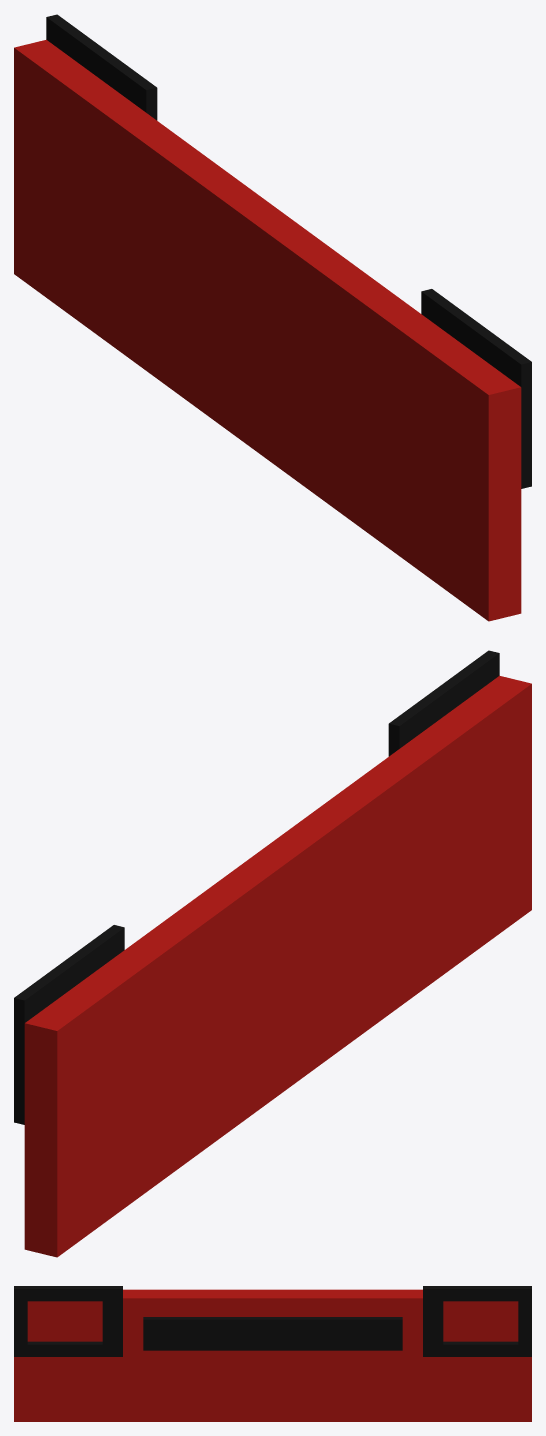
File: double_decker_front_panel.glb
3 views of the same model, one above another, from view 1: azimuth 30°, elevation 25°; view 2: azimuth 150°, elevation 25°; view 3: azimuth 270°, elevation 25° (orthographic). The views are drawn at different scales.
Visible parts, largest first — view 1: body:compound; view 2: body:compound; view 3: body:compound.
Part boxes in pixels (x1,y1,x2,y2): body:compound: (14, 14, 531, 621); body:compound: (14, 650, 531, 1257); body:compound: (14, 1286, 531, 1421).
Size of the model in its own units: 0.125 by 0.6875 by 2.38.
